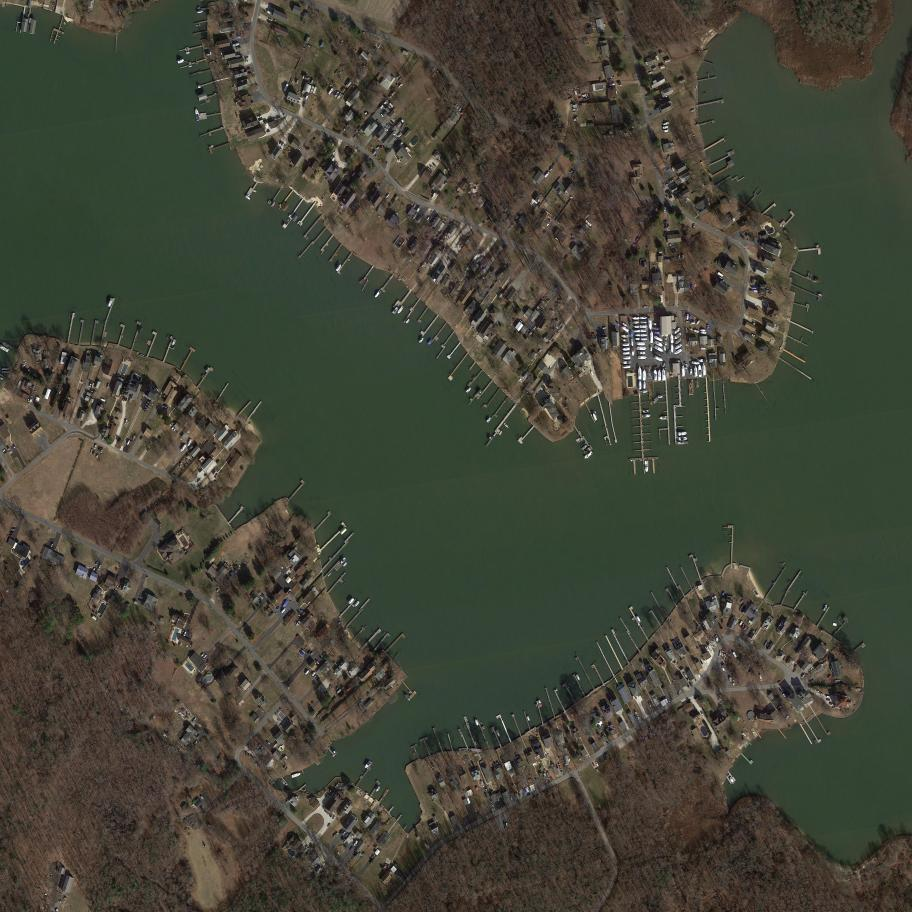ship: (583, 450, 594, 460), (653, 349, 664, 358), (653, 339, 664, 348), (653, 345, 664, 354), (653, 355, 665, 363), (194, 108, 201, 121), (673, 332, 683, 341), (673, 348, 684, 356), (697, 364, 703, 378), (291, 771, 301, 779), (374, 289, 382, 299), (397, 305, 405, 315), (644, 460, 650, 473), (653, 335, 664, 342), (179, 444, 187, 453), (674, 343, 683, 351), (403, 693, 411, 702), (364, 760, 372, 769), (391, 306, 399, 315), (621, 325, 630, 333), (636, 341, 647, 347), (661, 368, 666, 381), (702, 363, 707, 376), (281, 600, 289, 608), (335, 264, 343, 272), (673, 327, 681, 335), (339, 557, 347, 565), (316, 866, 323, 875), (674, 338, 683, 345), (591, 413, 598, 421), (280, 607, 287, 615), (638, 366, 642, 380), (583, 448, 591, 455), (392, 212, 399, 220), (503, 422, 511, 429), (331, 748, 338, 756), (348, 597, 355, 605), (354, 600, 361, 608), (653, 370, 658, 381), (309, 85, 315, 94), (622, 360, 631, 366), (729, 776, 735, 785), (648, 320, 653, 330), (638, 355, 648, 360), (677, 431, 687, 436), (336, 93, 343, 100), (303, 847, 310, 854), (255, 743, 262, 750), (418, 337, 425, 344), (374, 786, 381, 793), (271, 201, 277, 209), (650, 331, 654, 343), (642, 369, 646, 381), (623, 364, 631, 370), (682, 365, 686, 377), (694, 366, 698, 378), (822, 604, 828, 612), (544, 171, 550, 179), (691, 360, 700, 365), (537, 699, 542, 708), (466, 796, 471, 805), (636, 347, 647, 351), (658, 370, 662, 381), (677, 437, 688, 441), (334, 91, 340, 98), (32, 373, 39, 379), (304, 669, 310, 676), (353, 840, 359, 847), (360, 192, 366, 199), (695, 319, 701, 326), (412, 213, 418, 220), (546, 220, 552, 227), (528, 295, 534, 302), (486, 417, 492, 424), (474, 719, 480, 726), (187, 439, 192, 447), (670, 344, 674, 354), (639, 324, 649, 328), (638, 380, 642, 390), (699, 359, 707, 364), (29, 396, 34, 404), (496, 730, 501, 738), (480, 780, 485, 788), (636, 615, 641, 623), (659, 416, 667, 421), (702, 656, 707, 664), (714, 635, 719, 643), (300, 652, 306, 658), (301, 649, 307, 655), (245, 195, 251, 201), (204, 367, 210, 373), (630, 338, 634, 347), (631, 347, 635, 356), (663, 121, 669, 127), (573, 117, 579, 123), (806, 669, 812, 675), (342, 561, 348, 567), (299, 609, 305, 615), (405, 318, 411, 324), (398, 83, 404, 89), (642, 414, 651, 418), (329, 81, 334, 88), (100, 398, 107, 403), (296, 620, 301, 627), (171, 339, 176, 346), (693, 329, 700, 334), (576, 674, 581, 681), (817, 293, 824, 298), (834, 679, 841, 684), (461, 108, 466, 115), (643, 409, 650, 414), (581, 445, 588, 450), (202, 840, 206, 848), (632, 317, 640, 321), (638, 351, 646, 355), (640, 320, 648, 324), (623, 356, 631, 360), (609, 83, 617, 87), (622, 347, 630, 351), (126, 440, 131, 446), (131, 435, 136, 441), (671, 334, 674, 344), (319, 867, 324, 873), (558, 322, 563, 328), (327, 572, 332, 578), (336, 689, 342, 694), (622, 322, 628, 327), (616, 321, 621, 327), (742, 732, 748, 737), (723, 654, 729, 659), (196, 10, 203, 14), (320, 41, 324, 48), (233, 43, 240, 47), (663, 345, 667, 352), (640, 316, 647, 320), (700, 328, 707, 332), (572, 104, 579, 108), (590, 370, 594, 377), (664, 337, 667, 346), (152, 688, 157, 693), (532, 326, 537, 331), (785, 715, 790, 720), (697, 674, 702, 679), (305, 95, 309, 101), (340, 40, 344, 46), (124, 419, 128, 425), (106, 383, 110, 389), (130, 433, 134, 439), (654, 322, 660, 326), (654, 331, 660, 335), (640, 334, 648, 337), (635, 337, 641, 341), (699, 331, 707, 334), (643, 381, 646, 389), (690, 368, 693, 376), (662, 126, 668, 130), (753, 289, 759, 293), (751, 286, 759, 289), (527, 716, 531, 722), (759, 675, 763, 681), (654, 327, 661, 330), (633, 321, 640, 324), (641, 338, 648, 341), (641, 330, 648, 333), (623, 352, 630, 355), (622, 343, 629, 346), (622, 335, 629, 338), (185, 51, 190, 55), (670, 179, 675, 183), (28, 371, 32, 376), (345, 224, 349, 229), (129, 441, 133, 446), (634, 325, 639, 329), (732, 261, 737, 265), (691, 109, 696, 113), (408, 690, 412, 695), (401, 276, 405, 281), (386, 194, 390, 199), (665, 698, 669, 703), (739, 621, 743, 626), (723, 657, 727, 662), (27, 369, 30, 375), (634, 330, 640, 333), (643, 306, 649, 309), (686, 314, 689, 320), (685, 367, 688, 373), (707, 325, 710, 331), (842, 655, 848, 658), (573, 108, 579, 111), (622, 339, 628, 342), (188, 65, 192, 69), (690, 328, 694, 332), (328, 557, 332, 561), (568, 366, 572, 370), (631, 330, 633, 338), (364, 236, 367, 241), (179, 463, 182, 468), (635, 334, 640, 337), (685, 328, 688, 333), (629, 237, 632, 242), (413, 204, 416, 209), (711, 645, 714, 650), (722, 667, 725, 672), (719, 651, 722, 656), (664, 206, 666, 213), (139, 596, 143, 599), (294, 621, 297, 625), (179, 438, 183, 441), (650, 346, 652, 352), (347, 632, 350, 636), (590, 413, 593, 417), (594, 410, 597, 414), (657, 396, 663, 398), (733, 680, 735, 686), (721, 653, 724, 657), (44, 351, 46, 356), (573, 112, 578, 114), (558, 300, 563, 302), (23, 364, 26, 367), (713, 646, 716, 649), (564, 733, 566, 737), (45, 351, 47, 355), (47, 350, 49, 354), (569, 758, 571, 762), (381, 806, 383, 810), (386, 162, 388, 166), (722, 651, 724, 653)
small-vehicle: (254, 762, 262, 769), (387, 121, 394, 128), (431, 192, 437, 199), (390, 119, 396, 126), (699, 710, 705, 717), (353, 130, 359, 136), (662, 219, 668, 225), (386, 124, 392, 130), (383, 100, 389, 106), (187, 630, 192, 637), (416, 206, 421, 213), (595, 761, 600, 768), (189, 445, 194, 451), (116, 583, 121, 589), (193, 740, 198, 746), (265, 740, 271, 745), (380, 114, 386, 119), (296, 147, 302, 152), (375, 145, 381, 150), (372, 150, 377, 156), (778, 688, 783, 694), (479, 256, 484, 262), (549, 166, 554, 172), (433, 163, 438, 169), (384, 127, 390, 132), (458, 106, 463, 112), (484, 792, 489, 798), (614, 326, 619, 332), (777, 705, 783, 710), (98, 564, 102, 571), (203, 654, 208, 659), (200, 653, 205, 658), (310, 651, 315, 656), (296, 609, 301, 614), (214, 474, 219, 479), (376, 119, 381, 124), (356, 126, 361, 131), (212, 472, 217, 477), (351, 172, 356, 177), (327, 823, 332, 828), (662, 222, 667, 227), (827, 675, 832, 680), (801, 674, 806, 679), (503, 264, 508, 269), (314, 862, 319, 867), (684, 362, 689, 367), (649, 701, 654, 706), (717, 696, 722, 701), (92, 567, 96, 573), (183, 631, 187, 637), (332, 150, 336, 156), (485, 788, 489, 794), (489, 798, 493, 804), (397, 74, 401, 80), (667, 697, 671, 703), (706, 646, 710, 652), (662, 362, 666, 368), (751, 334, 757, 338), (528, 786, 532, 792), (636, 714, 640, 720), (663, 248, 666, 255), (196, 735, 200, 740), (198, 479, 202, 484), (268, 18, 273, 22), (377, 44, 381, 49), (267, 20, 272, 24), (677, 691, 681, 696), (371, 854, 375, 859), (296, 634, 300, 639), (280, 565, 284, 570), (216, 588, 220, 593), (316, 660, 320, 665), (313, 674, 317, 679), (315, 675, 319, 680), (277, 719, 282, 723), (305, 844, 309, 849), (343, 127, 347, 132), (379, 145, 383, 150), (346, 123, 350, 128), (363, 175, 367, 180), (337, 851, 341, 856), (722, 591, 726, 596), (718, 276, 723, 280), (332, 816, 336, 821), (426, 217, 431, 221), (229, 34, 233, 39), (762, 302, 767, 306), (429, 216, 433, 221), (549, 308, 554, 312), (692, 224, 696, 229), (737, 210, 741, 215), (663, 225, 668, 229), (520, 319, 524, 324), (444, 181, 448, 186), (448, 160, 453, 164), (538, 349, 542, 354), (359, 699, 364, 703), (491, 803, 495, 808), (700, 660, 704, 665), (711, 620, 715, 625), (714, 616, 718, 621), (743, 626, 747, 631), (555, 764, 559, 769), (592, 762, 596, 767), (782, 693, 786, 698), (648, 703, 652, 708), (777, 680, 782, 684), (789, 689, 793, 694), (100, 448, 103, 454), (119, 584, 122, 590), (824, 681, 827, 687), (571, 86, 574, 92), (667, 224, 670, 230), (829, 703, 835, 706), (510, 795, 513, 801), (563, 763, 566, 769), (506, 822, 509, 828), (308, 45, 312, 49), (570, 170, 574, 174), (2, 449, 6, 453), (258, 115, 262, 119), (342, 831, 346, 835), (260, 596, 264, 600), (281, 143, 285, 147), (307, 162, 311, 166), (296, 100, 300, 104), (211, 455, 215, 459), (721, 280, 725, 284), (820, 692, 824, 696), (551, 339, 555, 343), (430, 166, 434, 170), (336, 686, 340, 690), (51, 542, 54, 547), (12, 528, 17, 531), (244, 57, 249, 60), (243, 23, 248, 26), (715, 260, 718, 265), (606, 740, 609, 745), (508, 226, 511, 231), (662, 286, 665, 291), (672, 274, 677, 277), (742, 624, 745, 629), (676, 360, 681, 363), (668, 349, 671, 354), (518, 792, 521, 797), (817, 691, 821, 694), (245, 60, 249, 63), (102, 437, 105, 441), (89, 384, 92, 388), (94, 445, 97, 449), (248, 754, 251, 758), (297, 97, 301, 100), (751, 265, 755, 268), (659, 98, 663, 101), (578, 97, 582, 100), (826, 695, 830, 698), (602, 333, 606, 336), (443, 807, 446, 811), (694, 679, 698, 682), (207, 660, 209, 665), (664, 232, 666, 237), (649, 287, 651, 292), (691, 284, 693, 289), (677, 255, 679, 260), (679, 255, 681, 260), (559, 764, 561, 769), (603, 327, 606, 330), (618, 84, 622, 86), (28, 399, 30, 402), (649, 72, 652, 74), (610, 77, 615, 78)
